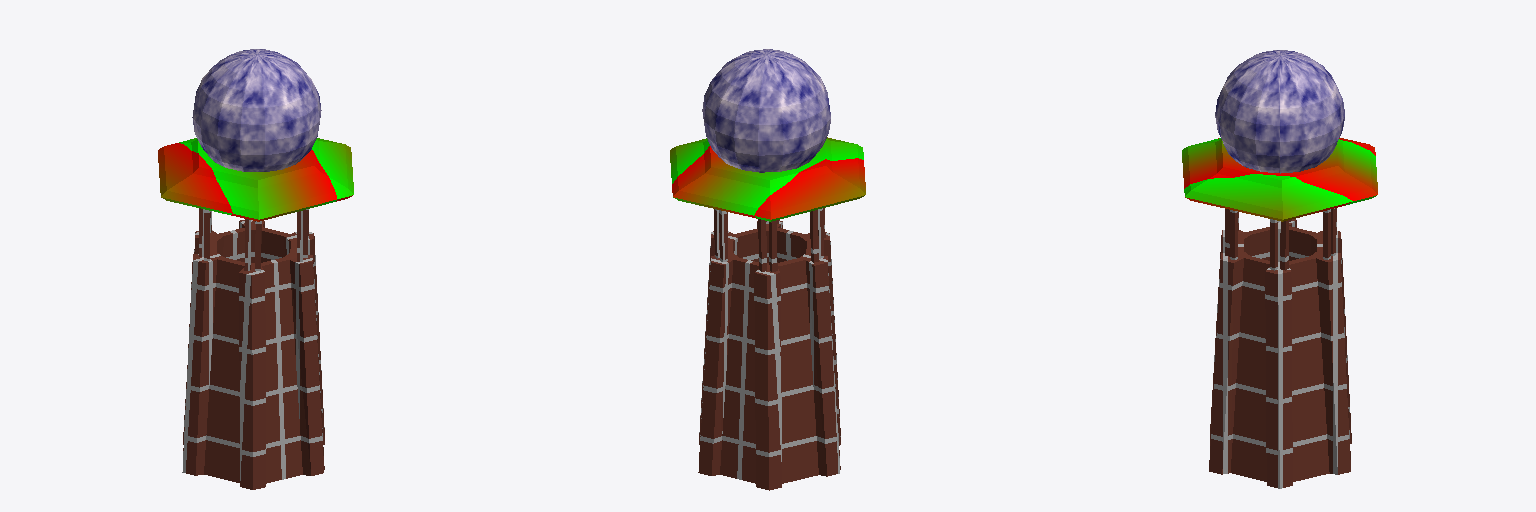
3 views of the same model, side by side, from view 1: azimuth 30°, elevation 25°; view 2: azimuth 150°, elevation 25°; view 3: azimuth 270°, elevation 25° (orthographic).
Visible parts, largest first — view 1: 棱柱1, 球体1, 棱柱2; view 2: 棱柱1, 球体1, 棱柱2; view 3: 棱柱1, 球体1, 棱柱2.
Boxes of the visible parts, <box> form: 棱柱1: <box>182,208,324,489</box>; 球体1: <box>192,49,321,171</box>; 棱柱2: <box>158,138,353,221</box>; 棱柱1: <box>698,208,840,490</box>; 球体1: <box>702,49,830,172</box>; 棱柱2: <box>670,137,865,221</box>; 棱柱1: <box>1209,208,1351,488</box>; 球体1: <box>1215,50,1344,173</box>; 棱柱2: <box>1182,138,1377,221</box>.
Size of the model in its own units: 20.32 by 40.3 by 17.88.
3 materials, 3 textured.